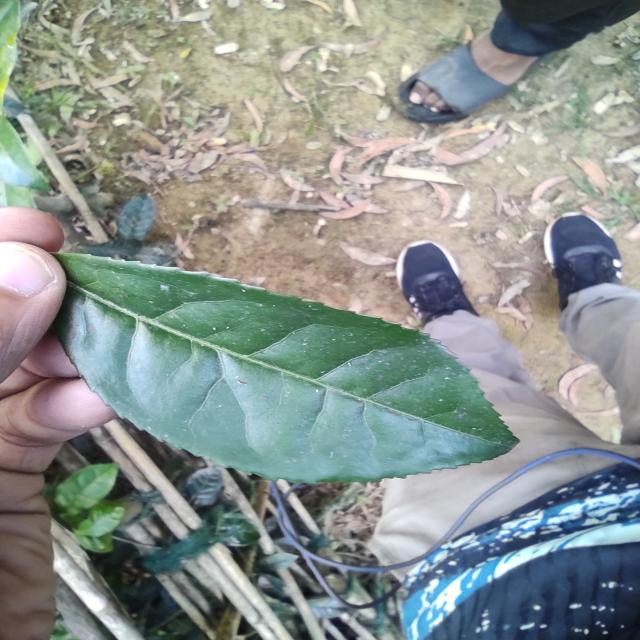Category D 7+ days, Not for Tea: (49, 235, 529, 484)
